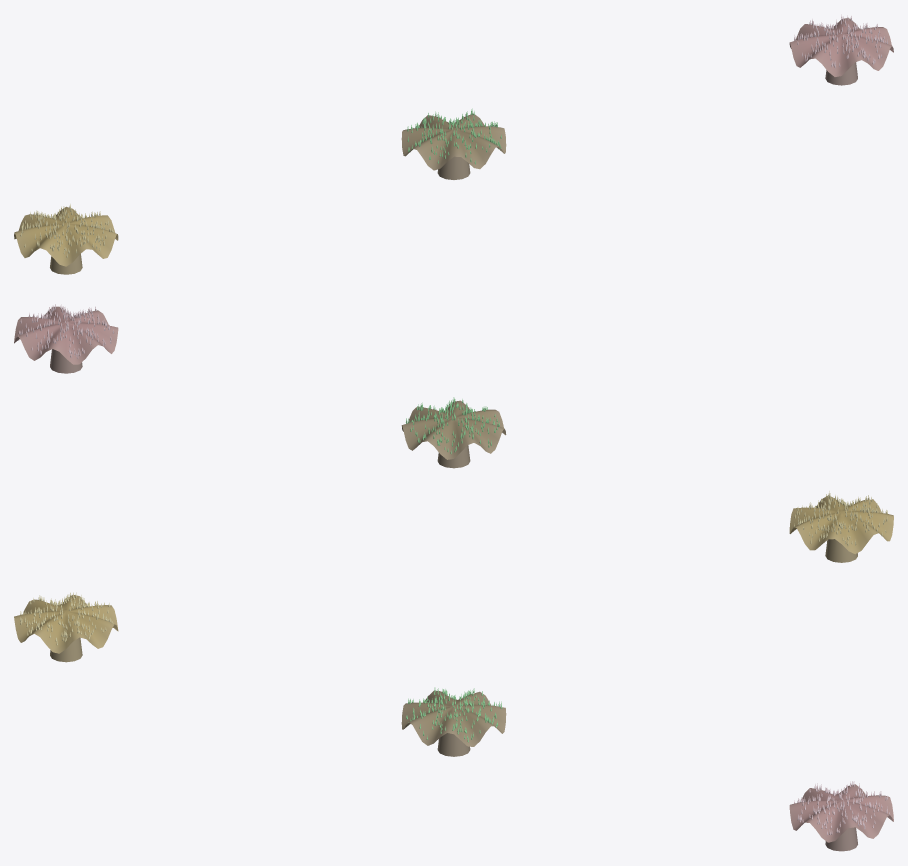
3 renders of one model, top to bottom at view 1: azimuth 30°, elevation 25°; view 2: azimuth 150°, elevation 25°; view 3: azimuth 330°, elevation 25°, orthographic.
Visible parts, largest first — view 1: sarcophyton-1, sarcophyton-2, sarcophyton-0; view 2: sarcophyton-0, sarcophyton-2, sarcophyton-1; view 3: sarcophyton-1, sarcophyton-2, sarcophyton-0.
Boxes of the visible parts, box(x1,y1,x2,y2) form: sarcophyton-1: box(401, 108, 506, 179); sarcophyton-2: box(789, 14, 893, 85); sarcophyton-0: box(14, 204, 118, 274); sarcophyton-0: box(789, 491, 893, 562); sarcophyton-2: box(14, 304, 118, 373); sarcophyton-1: box(401, 397, 506, 468); sarcophyton-1: box(401, 687, 506, 756); sarcophyton-2: box(789, 781, 893, 851); sarcophyton-0: box(14, 592, 118, 662).
Size of the model in its own units: 1.34 by 0.0736 by 0.14.
